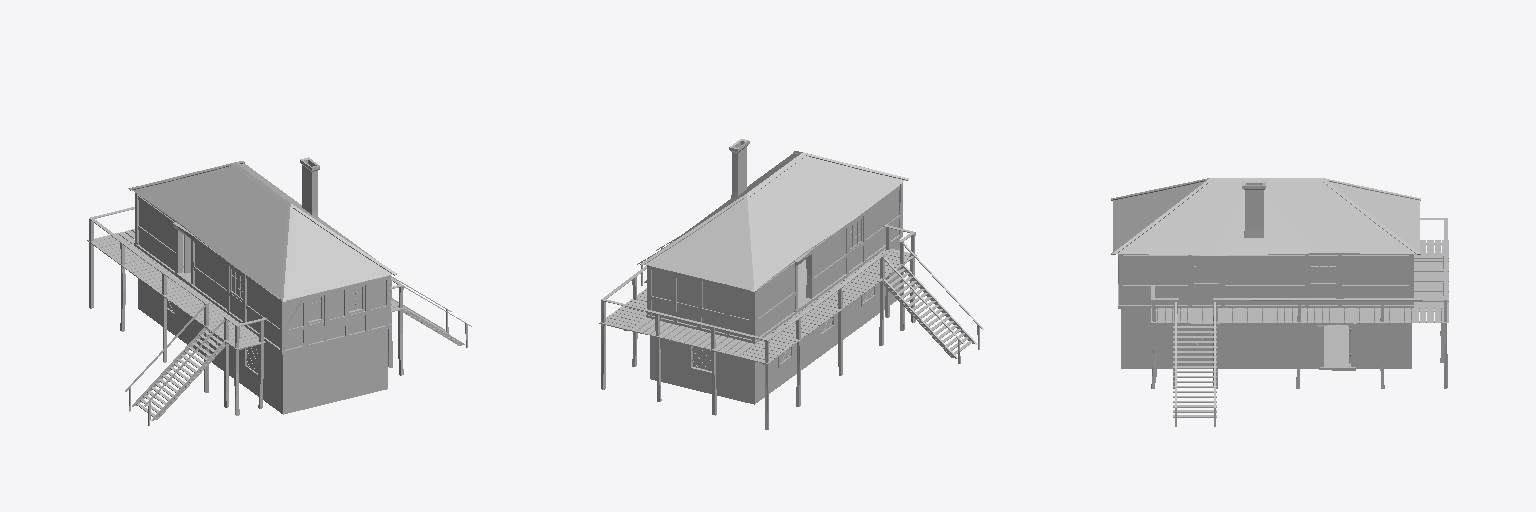
Rendered from Medieval house 4.obj.
The picture shows the model from 3 angles: view 1: azimuth 30°, elevation 25°; view 2: azimuth 150°, elevation 25°; view 3: azimuth 270°, elevation 25°; orthographic projection.
Visible parts, largest first — view 1: House_Cube.020, Glass_Cube.026; view 2: House_Cube.020, Glass_Cube.026; view 3: House_Cube.020, Glass_Cube.026.
Boxes of the visible parts, box(x1,y1,x2,y2) form: House_Cube.020: box(87, 157, 471, 425); Glass_Cube.026: box(167, 270, 361, 372); House_Cube.020: box(599, 139, 983, 429); Glass_Cube.026: box(693, 220, 873, 370); House_Cube.020: box(1111, 178, 1448, 426); Glass_Cube.026: box(1193, 261, 1335, 346).
Size of the model in its own units: 15.6 by 8.44 by 13.95.